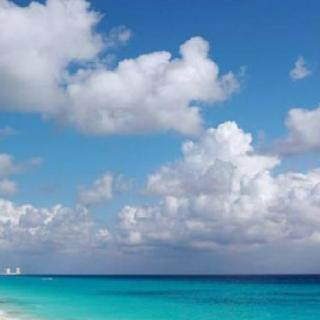Cirrocumulus: (0, 0, 320, 268)
